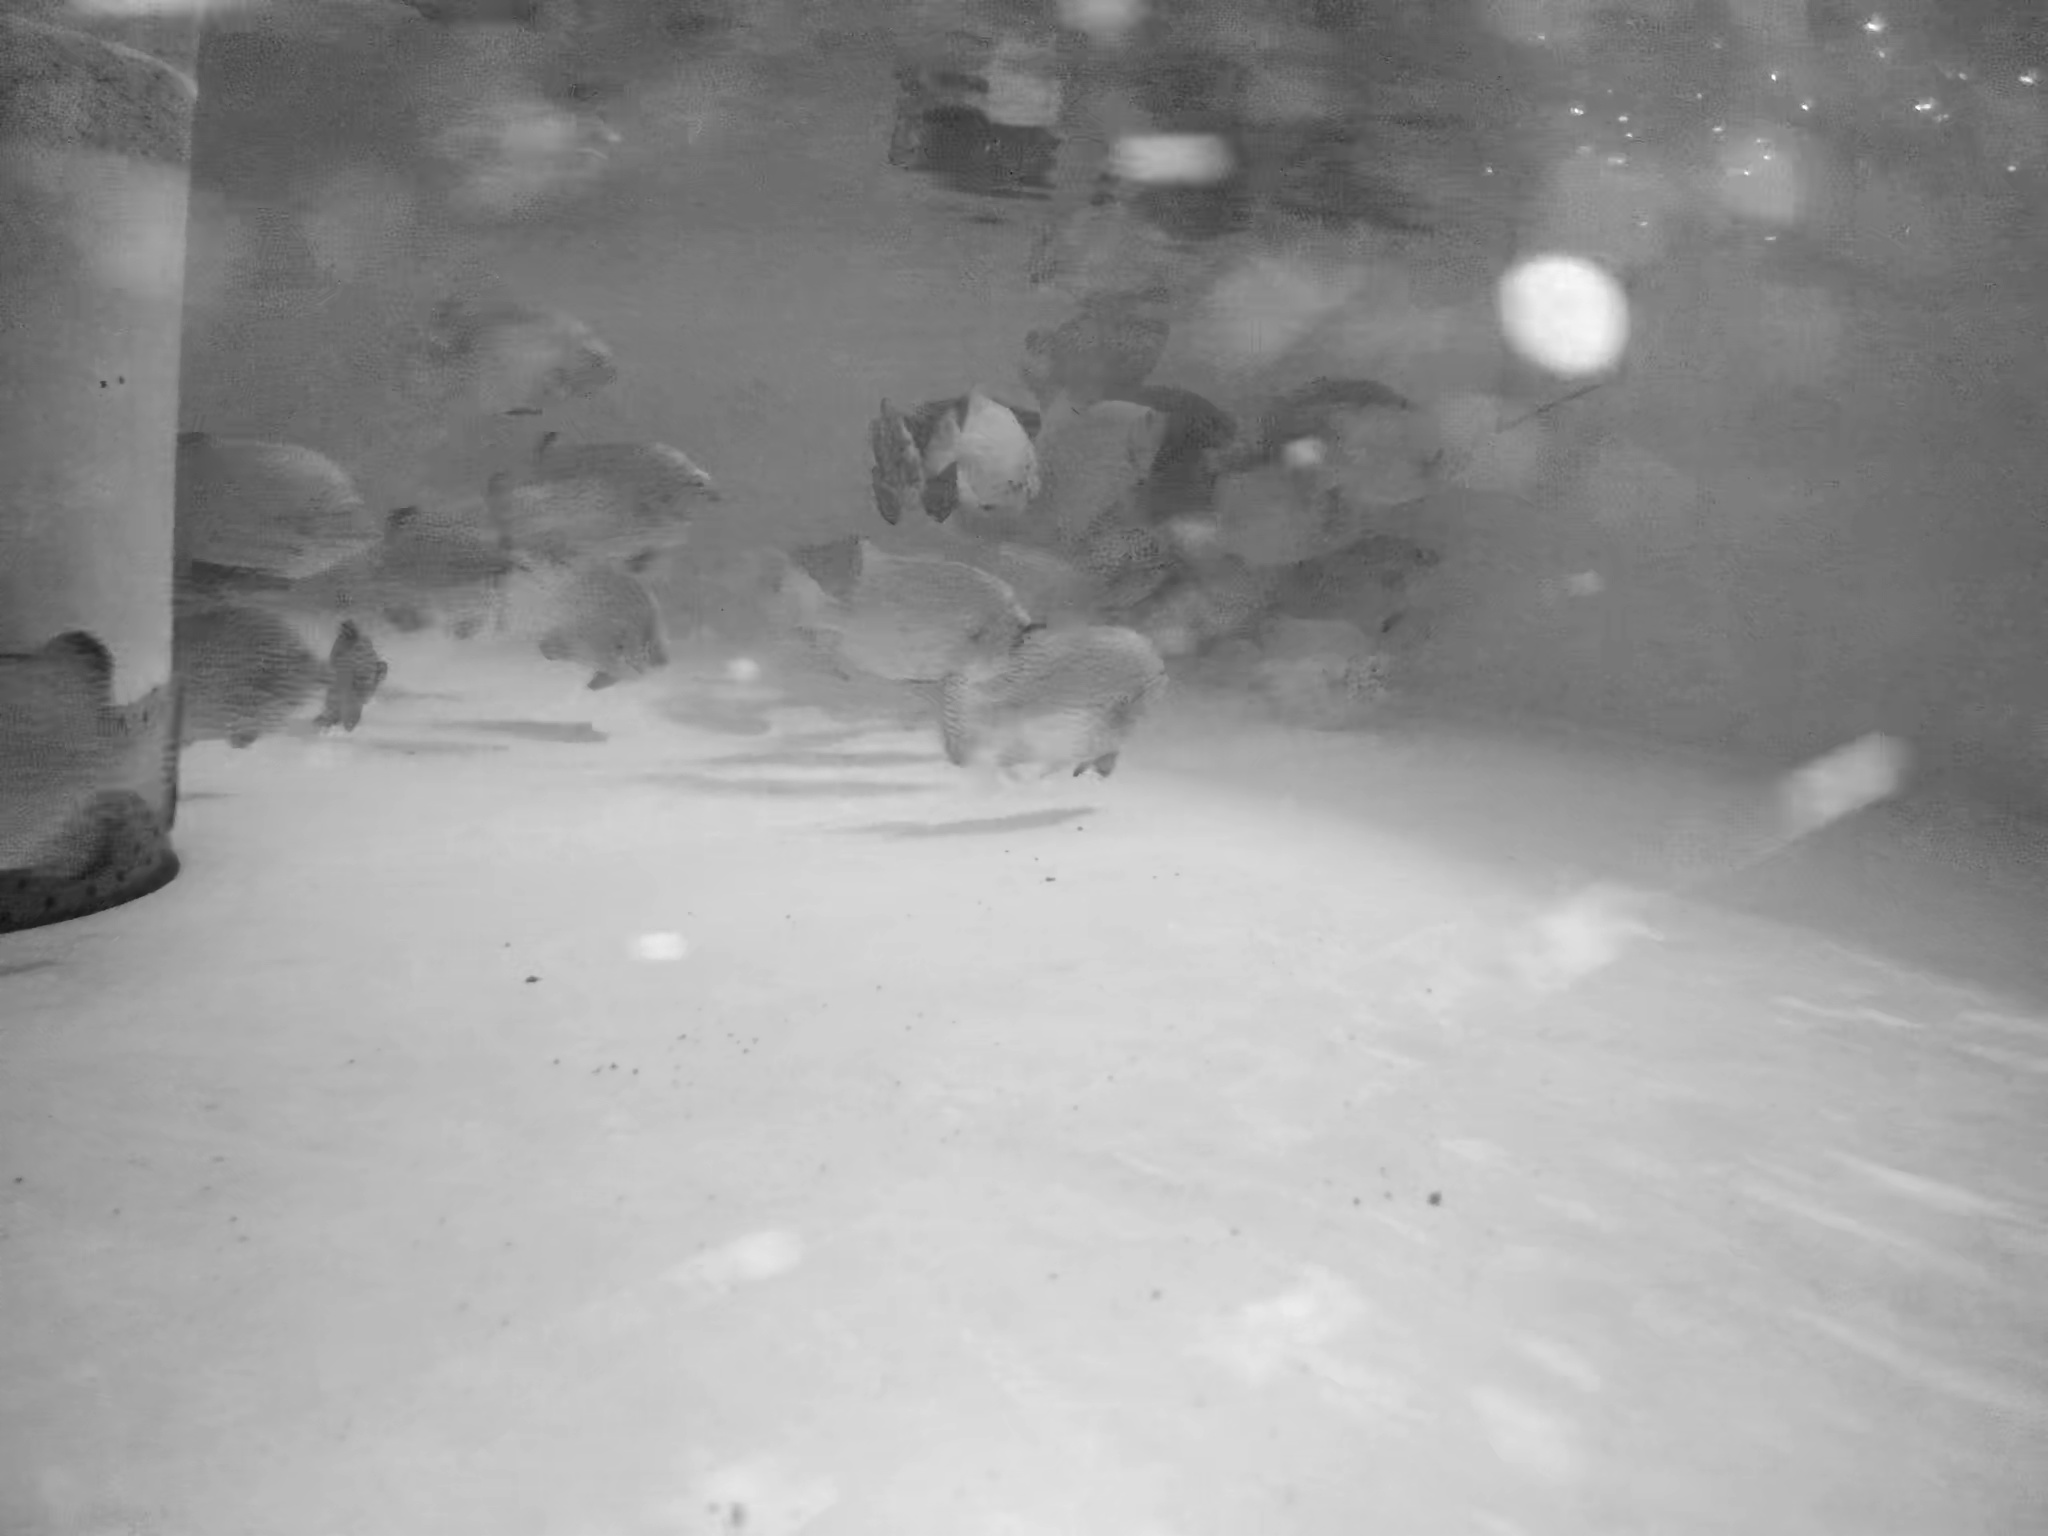fish: (3, 632, 208, 891), (784, 529, 1056, 671), (945, 623, 1172, 783), (169, 410, 379, 574), (400, 295, 637, 440), (1248, 387, 1480, 520), (485, 437, 731, 550), (173, 587, 331, 741), (1180, 432, 1348, 574), (1259, 624, 1427, 760), (1034, 269, 1184, 413), (514, 557, 660, 694), (389, 502, 527, 631), (1035, 403, 1168, 516), (1148, 570, 1321, 653), (1295, 523, 1456, 608), (872, 399, 934, 524), (337, 587, 389, 733)
